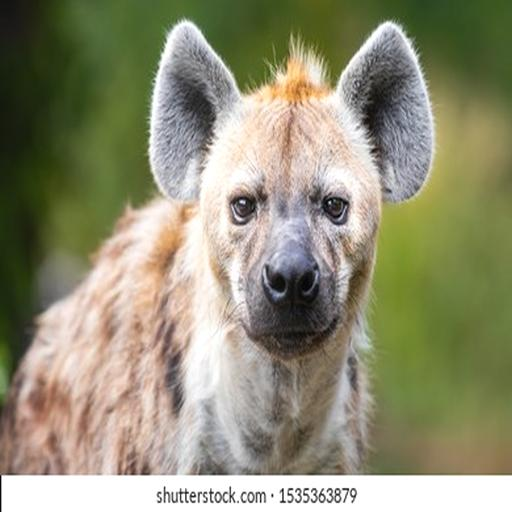hyenas: (81, 20, 512, 482)
